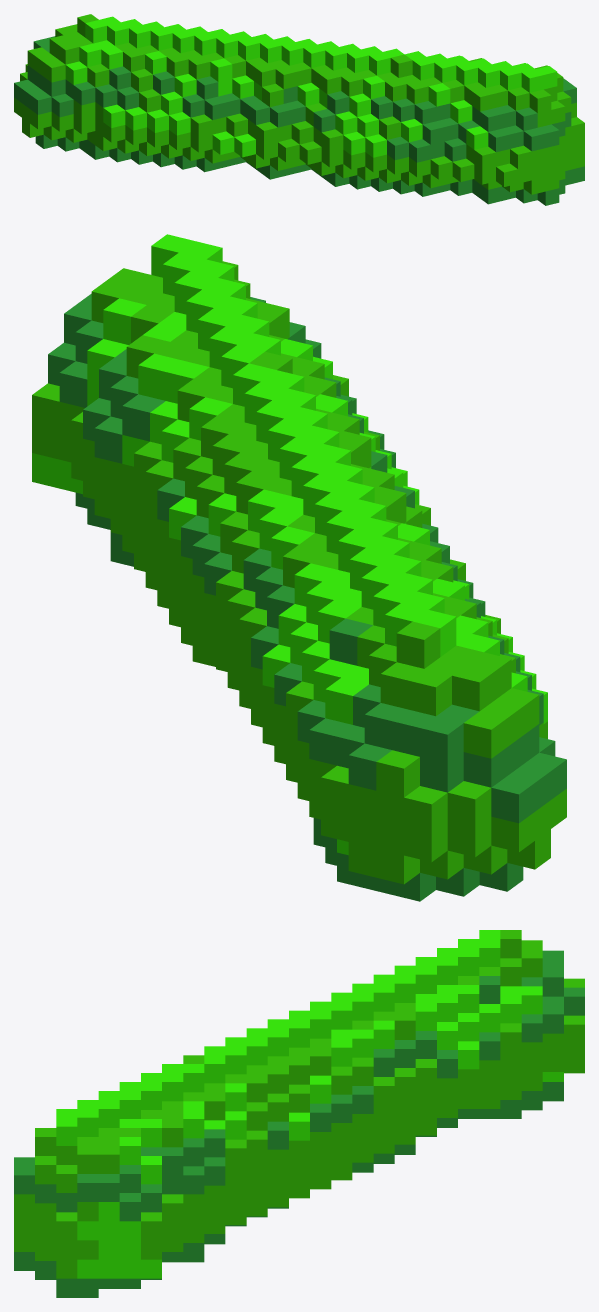
File: map_Second_Stage-3.obj
The picture shows the model from 3 angles, top to bottom: view 1: azimuth 30°, elevation 25°; view 2: azimuth 150°, elevation 25°; view 3: azimuth 270°, elevation 25°; orthographic projection. The views are drawn at different scales.
Size of the model in its own units: 2.8 by 0.8 by 2.7.
1 material, 1 textured.
